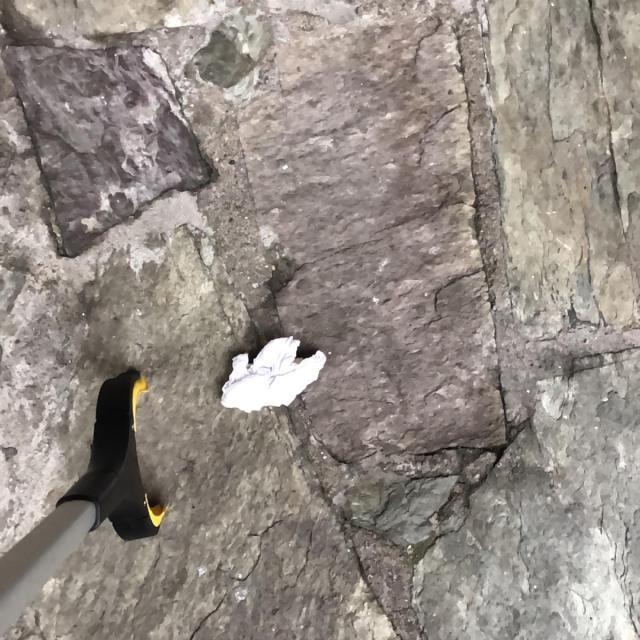Paper: (219, 336, 328, 414)
